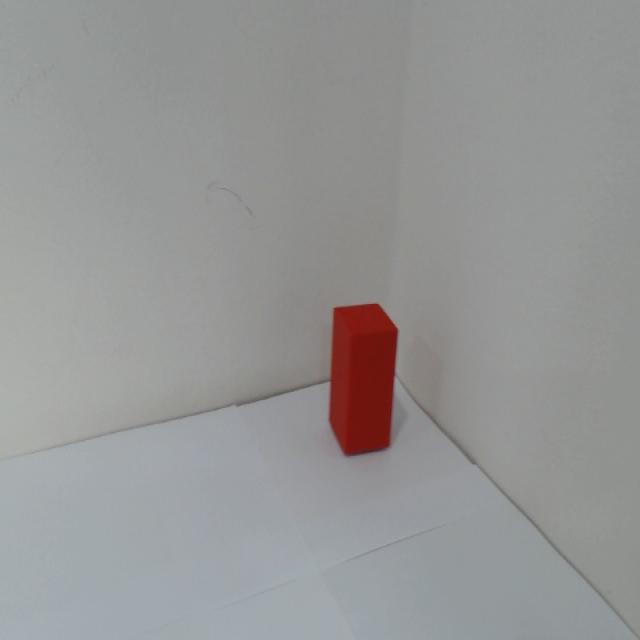cube: (324, 297, 403, 457)
